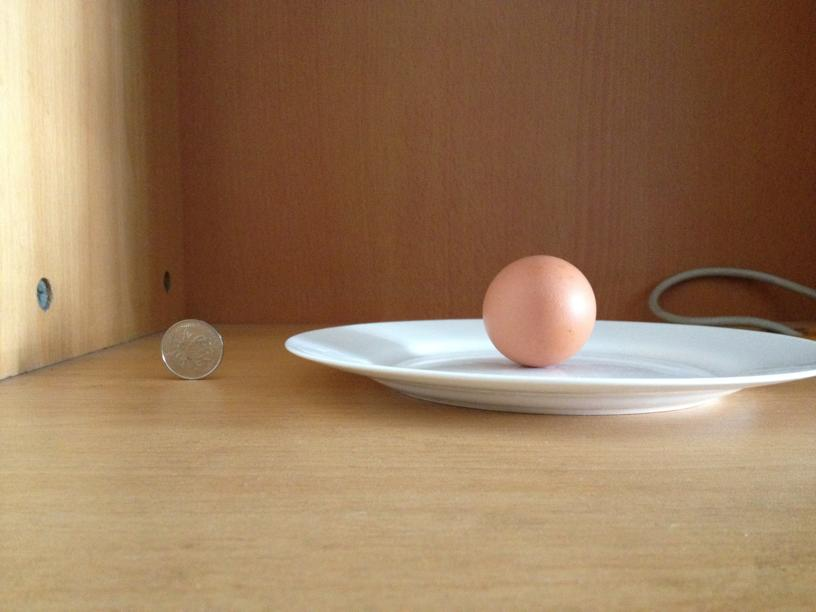coin: (159, 319, 224, 381)
egg: (483, 250, 596, 365)
